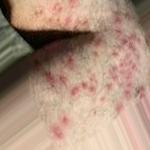Ants: (42, 69, 57, 86), (50, 122, 63, 139), (80, 80, 96, 93), (58, 114, 70, 126), (64, 14, 76, 25), (112, 102, 123, 113), (109, 65, 117, 80), (136, 85, 145, 98), (59, 75, 68, 86), (52, 2, 61, 13), (118, 61, 126, 73), (119, 37, 127, 49), (128, 60, 137, 70), (114, 15, 122, 26), (71, 86, 79, 96), (124, 87, 131, 98), (34, 8, 43, 16), (128, 42, 135, 52), (125, 75, 131, 86), (67, 56, 74, 65), (98, 95, 105, 102), (106, 83, 112, 90), (112, 51, 118, 57)
